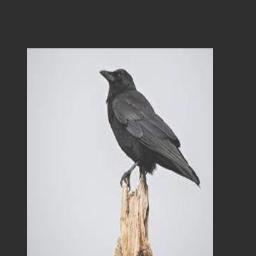Crow: (97, 68, 199, 188)
